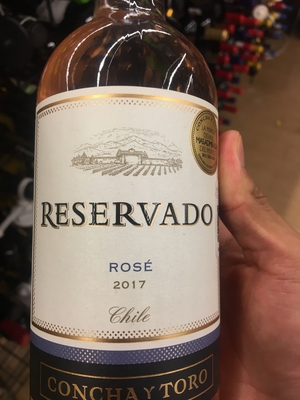reservado rose: (31, 21, 220, 399)
